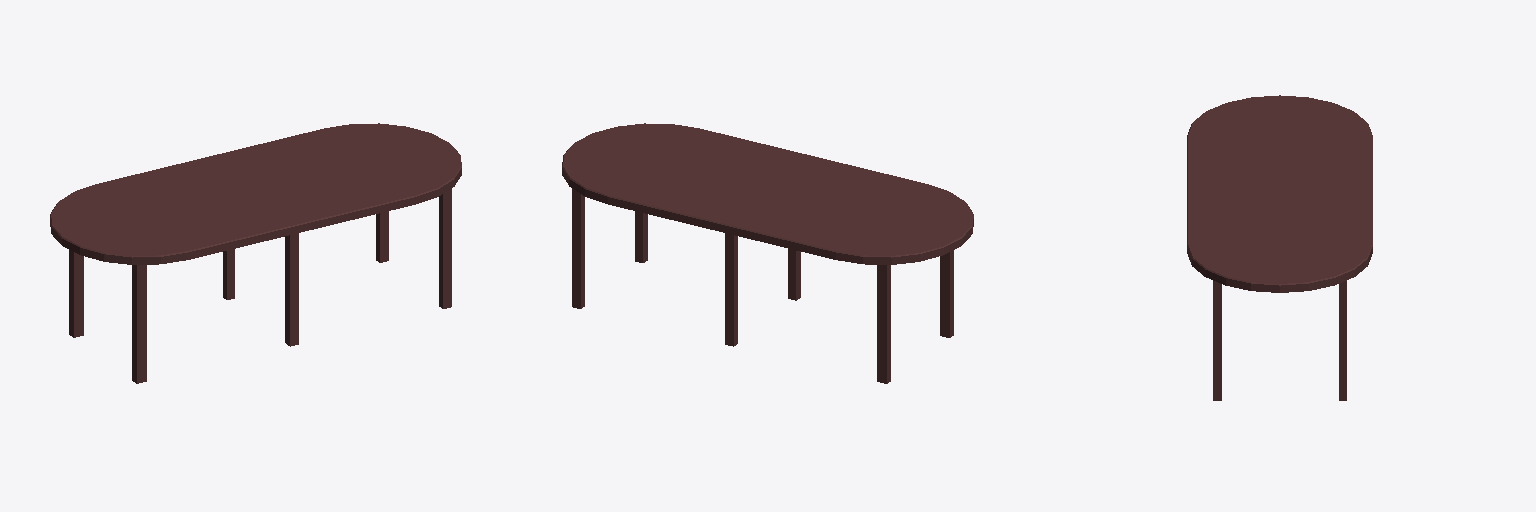
The model's file is table1.obj.
3 renders of one model, left to right at view 1: azimuth 30°, elevation 25°; view 2: azimuth 150°, elevation 25°; view 3: azimuth 270°, elevation 25°, orthographic.
Parts seen in each view (by area): view 1: table1; view 2: table1; view 3: table1.
Boxes of the visible parts, x1,y1,x2,y2 form: table1: [50, 123, 461, 383]; table1: [562, 123, 973, 383]; table1: [1187, 95, 1372, 400].
Size of the model in its own units: 2.24 by 0.7315 by 0.9273.